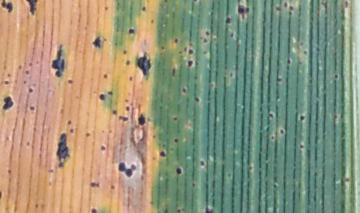tarspot: (50, 42, 66, 78), (56, 132, 71, 169), (135, 51, 152, 81), (116, 160, 139, 179), (23, 1, 40, 17), (235, 1, 249, 20), (1, 95, 15, 112), (1, 1, 15, 15), (90, 35, 103, 47), (137, 113, 146, 130), (126, 25, 136, 36), (88, 181, 101, 189), (118, 114, 129, 123), (204, 204, 215, 213), (175, 166, 183, 177), (198, 160, 207, 169), (245, 164, 255, 172), (98, 92, 105, 103), (158, 150, 166, 159), (124, 58, 132, 67), (298, 113, 306, 122), (186, 59, 194, 68), (267, 110, 274, 120), (109, 183, 117, 191), (124, 105, 132, 113), (128, 74, 135, 83), (181, 85, 187, 95), (229, 29, 235, 39), (29, 104, 36, 112), (332, 72, 339, 80), (187, 49, 195, 56), (171, 64, 175, 78), (121, 48, 128, 56), (201, 48, 208, 56), (342, 175, 350, 182), (225, 16, 231, 25), (89, 207, 98, 213), (192, 96, 201, 102), (122, 98, 131, 104), (278, 128, 285, 135), (99, 145, 106, 152), (111, 109, 118, 116), (47, 167, 54, 174), (66, 118, 72, 126), (299, 142, 305, 150), (282, 1, 288, 9), (149, 17, 155, 25), (65, 78, 73, 84), (27, 87, 33, 95), (3, 79, 11, 85), (25, 140, 31, 148), (331, 113, 339, 119), (226, 171, 232, 179), (343, 1, 349, 9), (141, 4, 146, 13), (68, 128, 75, 134), (107, 89, 113, 96), (277, 76, 283, 83), (288, 4, 294, 11), (286, 57, 292, 64), (204, 29, 210, 36), (84, 131, 90, 138), (23, 69, 29, 76), (22, 79, 28, 86), (33, 202, 39, 209), (150, 133, 157, 139), (107, 128, 113, 135), (271, 181, 277, 188), (229, 71, 234, 79), (182, 45, 187, 53), (102, 73, 108, 79), (302, 50, 308, 56), (274, 5, 280, 11), (173, 137, 179, 143), (159, 45, 165, 51), (102, 5, 108, 11), (1, 189, 4, 201), (175, 207, 181, 213), (191, 182, 197, 188), (270, 135, 275, 142), (287, 10, 294, 15), (202, 37, 207, 44), (163, 206, 168, 213), (173, 38, 178, 44), (173, 116, 178, 122), (6, 72, 12, 77), (17, 64, 22, 70), (6, 168, 11, 174), (34, 59, 39, 65), (298, 41, 304, 46), (27, 62, 34, 66), (177, 50, 181, 56), (100, 128, 104, 134), (191, 1, 198, 4), (162, 1, 169, 3)
